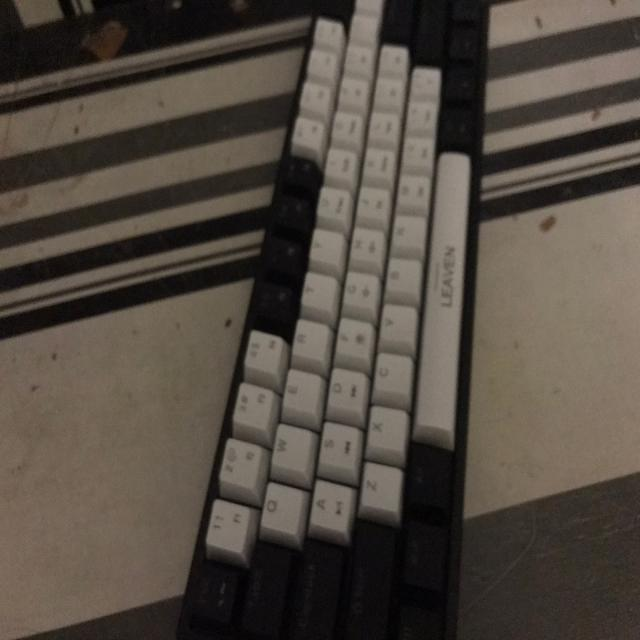-mouse-: (171, 0, 492, 640)
